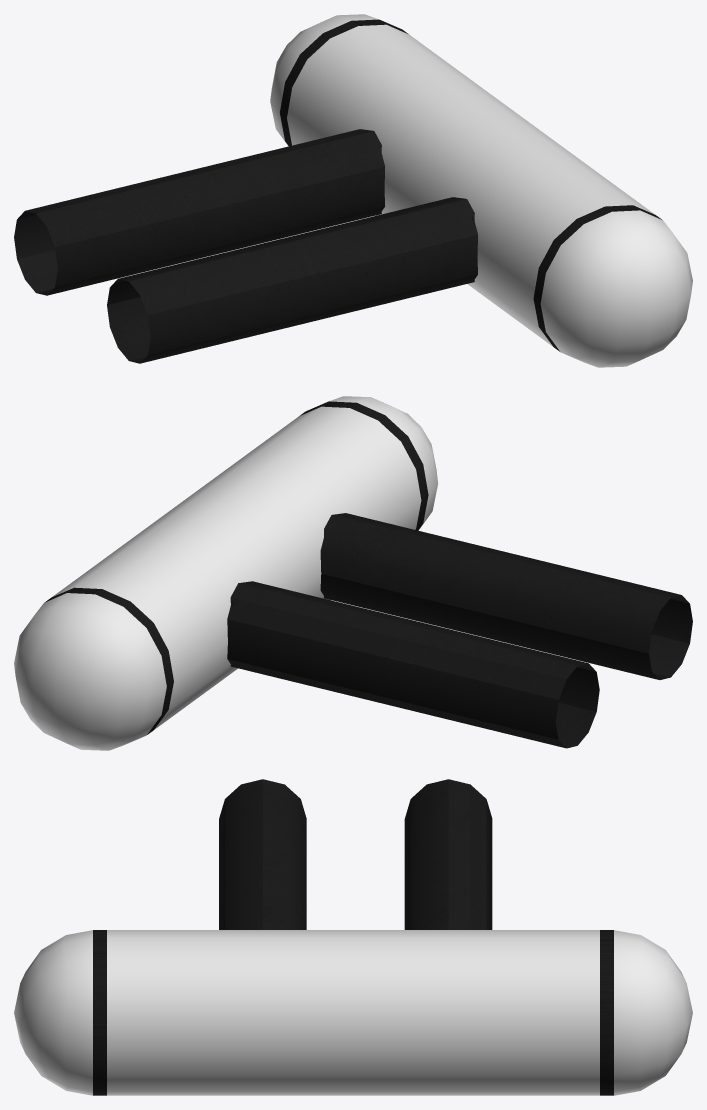
The model's file is LeaverSmall.fbx.
3 renders of one model, top to bottom at view 1: azimuth 30°, elevation 25°; view 2: azimuth 150°, elevation 25°; view 3: azimuth 270°, elevation 25°, orthographic.
Visible parts, largest first — view 1: LeverSmall; view 2: LeverSmall; view 3: LeverSmall.
Boxes of the visible parts, x1,y1,x2,y2 form: LeverSmall: (14, 14, 692, 367); LeverSmall: (14, 396, 692, 750); LeverSmall: (14, 779, 692, 1095).
Bounding box in the file's own units: 0.1186 × 0.0361 × 0.1487.
